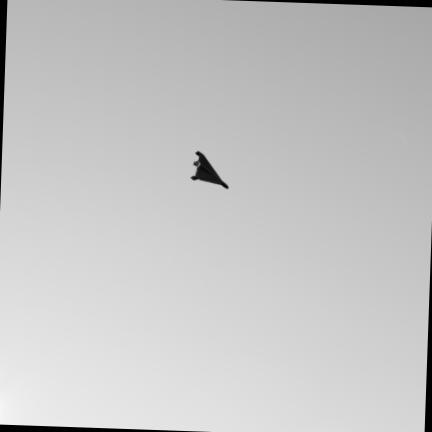Shahed: (192, 151, 228, 188)
